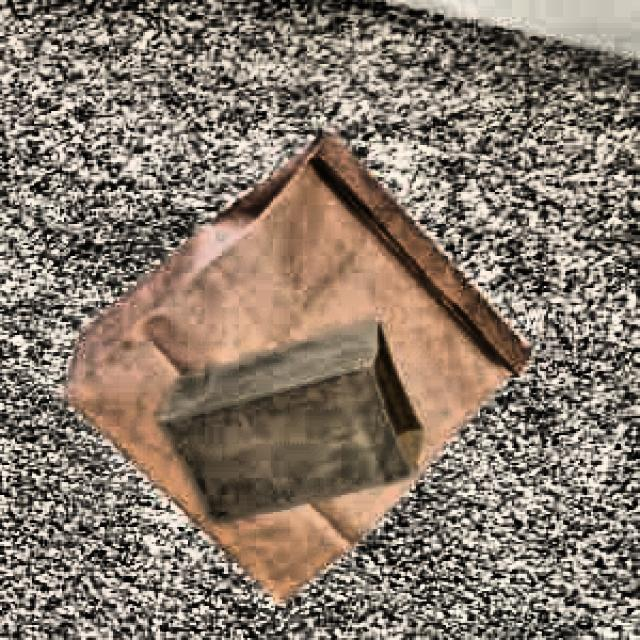Paper-bag: (61, 120, 544, 606), (155, 325, 445, 529)
